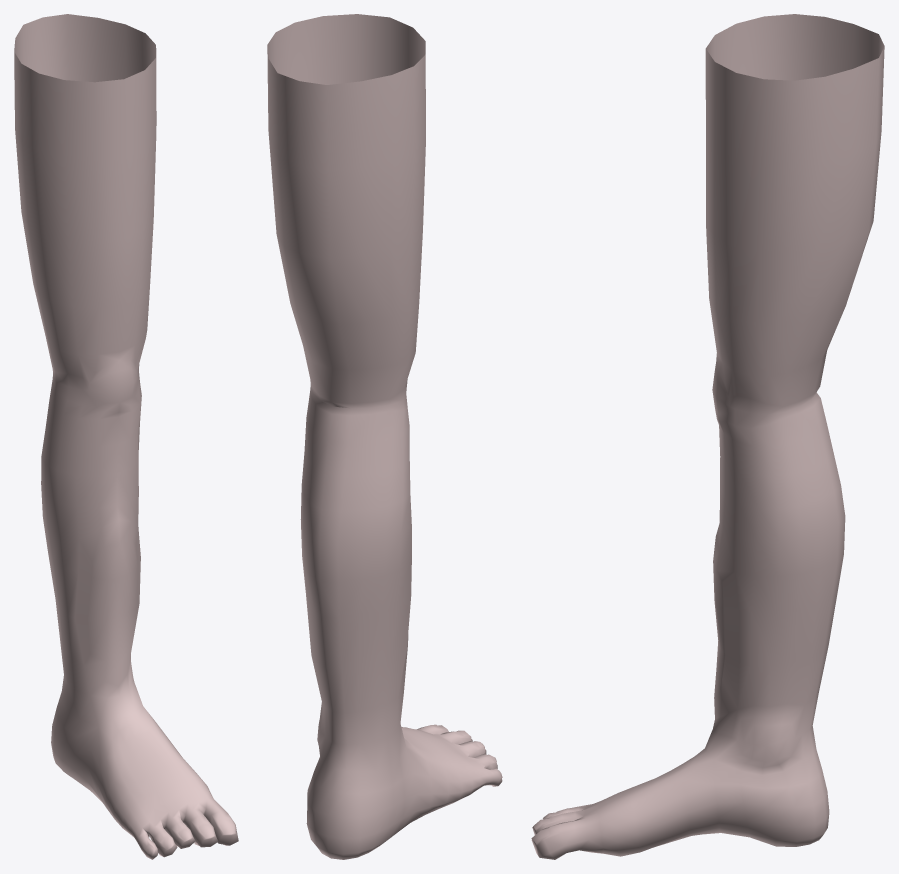
Rendered from FBX_Fracture_Leg_1.fbx.
3 renders of one model, left to right at view 1: azimuth 30°, elevation 25°; view 2: azimuth 150°, elevation 25°; view 3: azimuth 270°, elevation 25°, orthographic. The views are drawn at different scales.
Parts seen in each view (by area): view 1: polySurface5; view 2: polySurface5; view 3: polySurface5.
Boxes of the visible parts, x1,y1,x2,y2 form: polySurface5: (14, 14, 238, 859); polySurface5: (267, 14, 502, 859); polySurface5: (531, 14, 884, 859).
Bounding box in the file's own units: 1.45 × 8.14 × 3.25.
